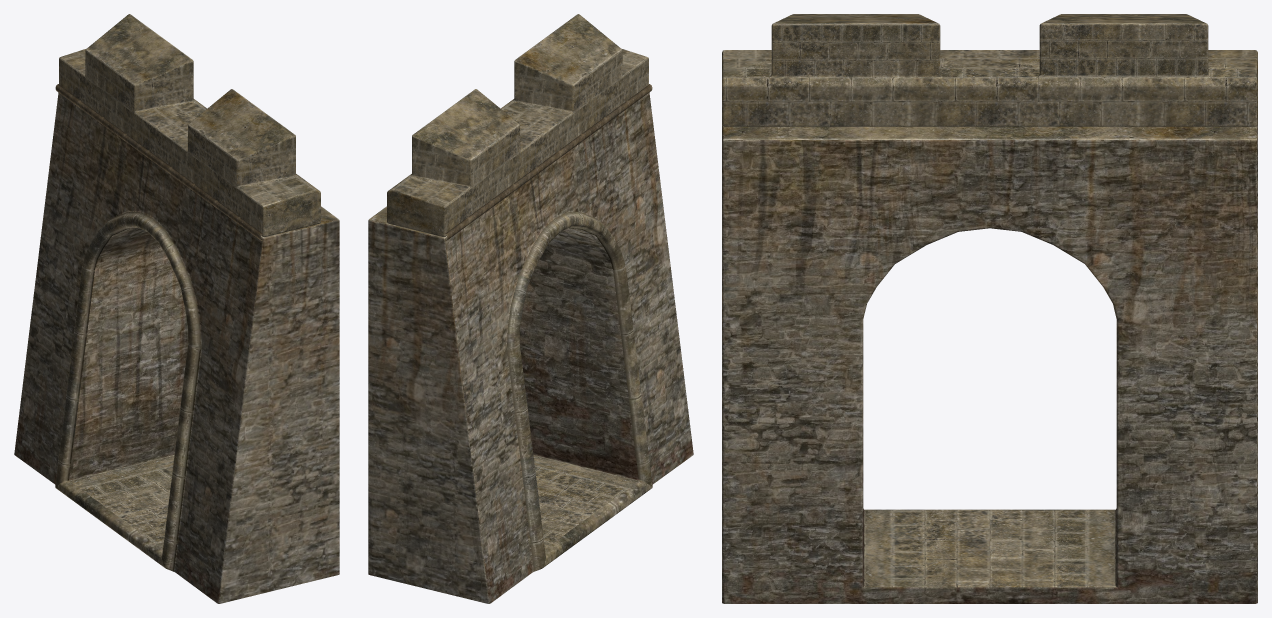
File: ceremonial_gate.glb
The picture shows the model from 3 angles, left to right: view 1: azimuth 30°, elevation 25°; view 2: azimuth 150°, elevation 25°; view 3: azimuth 270°, elevation 25°; orthographic projection. The views are drawn at different scales.
Visible parts, largest first — view 1: modular_fort_01_wall_thin_gate_01; view 2: modular_fort_01_wall_thin_gate_01; view 3: modular_fort_01_wall_thin_gate_01.
Boxes of the visible parts, x1,y1,x2,y2 form: modular_fort_01_wall_thin_gate_01: [14, 14, 339, 603]; modular_fort_01_wall_thin_gate_01: [368, 14, 693, 603]; modular_fort_01_wall_thin_gate_01: [722, 14, 1257, 603].
Bounding box in the file's own units: 2.67 × 8.62 × 7.41.
Materials: 2 (2 with a texture image).
